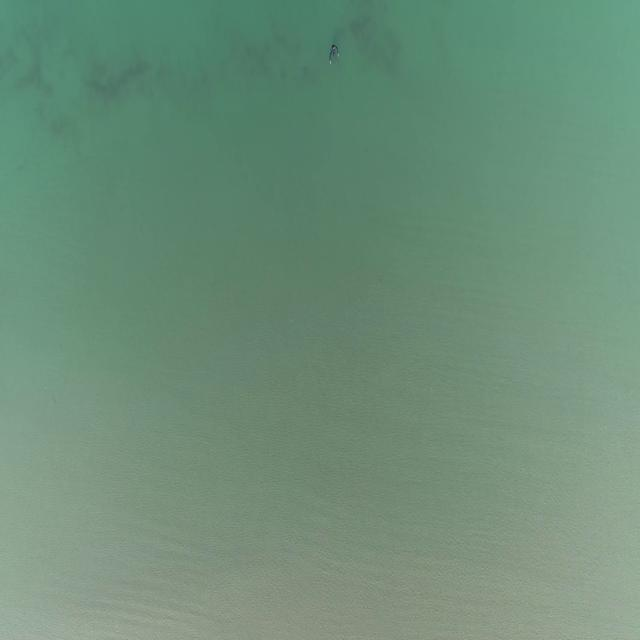person: (328, 44, 341, 64)
